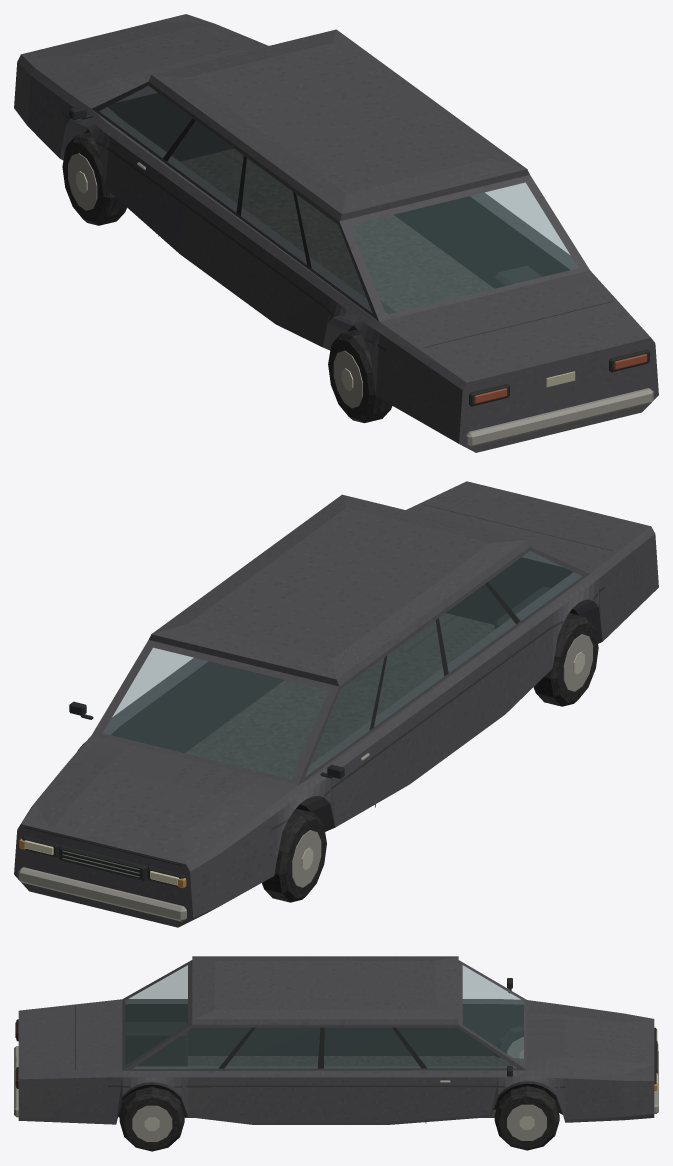
The model's file is vehicle_limo.glb.
The picture shows the model from 3 angles, top to bottom: view 1: azimuth 30°, elevation 25°; view 2: azimuth 150°, elevation 25°; view 3: azimuth 270°, elevation 25°; orthographic projection. The views are drawn at different scales.
Parts seen in each view (by area): view 1: closed_body, roof_body, glazing; view 2: closed_body, roof_body, glazing; view 3: closed_body, glazing, roof_body.
Boxes of the visible parts, box(x1,y1,x2,y2) form: closed_body: box(14, 14, 658, 452); roof_body: box(148, 29, 529, 221); glazing: box(99, 86, 577, 314); closed_body: box(14, 481, 658, 927); roof_body: box(148, 494, 529, 686); glazing: box(103, 551, 581, 778); closed_body: box(14, 960, 658, 1151); glazing: box(125, 965, 523, 1068); roof_body: box(192, 956, 458, 1024).
Size of the model in its own units: 2.17 by 1.4 by 6.37.
2 materials, 2 textured.
